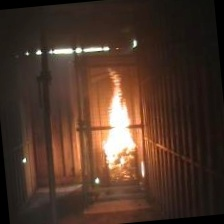fire: (88, 60, 139, 161)
